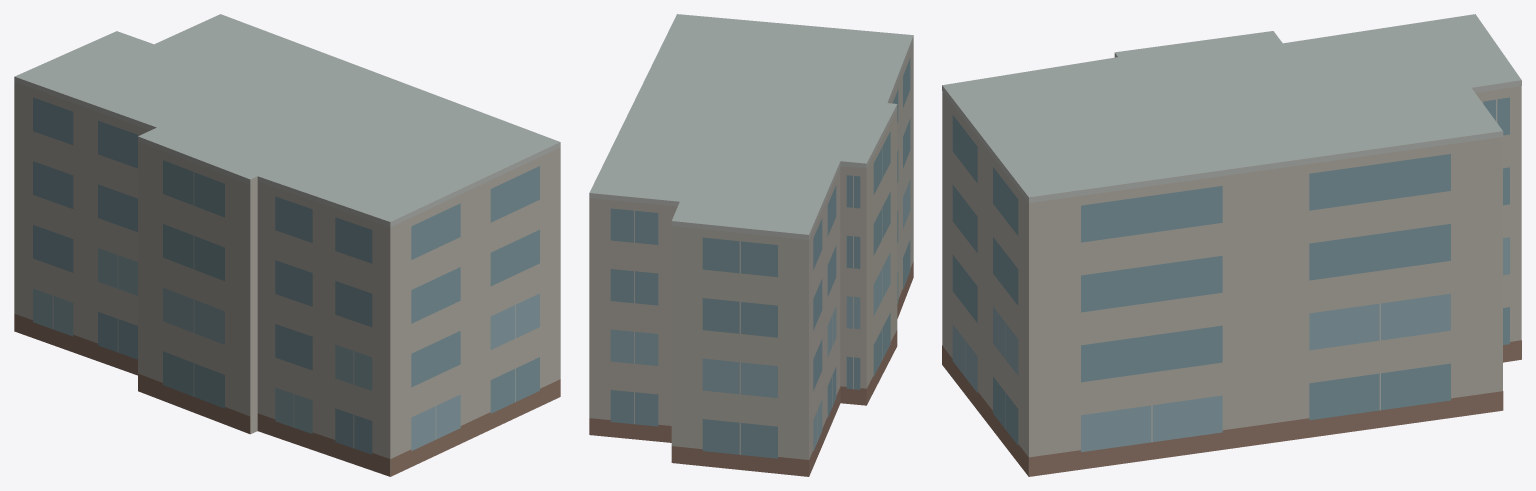
File: survey-upis-32814676.glb
3 renders of one model, left to right at view 1: azimuth 30°, elevation 25°; view 2: azimuth 150°, elevation 25°; view 3: azimuth 270°, elevation 25°, orthographic. The views are drawn at different scales.
Parts seen in each view (by area): view 1: survey-upis-32814676.tmp; view 2: survey-upis-32814676.tmp; view 3: survey-upis-32814676.tmp.
Boxes of the visible parts, x1,y1,x2,y2 form: survey-upis-32814676.tmp: (14,14,560,476); survey-upis-32814676.tmp: (589,14,913,476); survey-upis-32814676.tmp: (942,14,1521,476).
Size of the model in its own units: 16.61 by 11.8 by 22.19.
